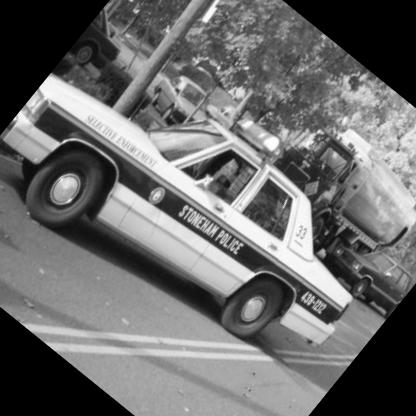car: (1, 18, 395, 410), (316, 217, 416, 322), (143, 68, 219, 141)
truck: (252, 93, 389, 234)
